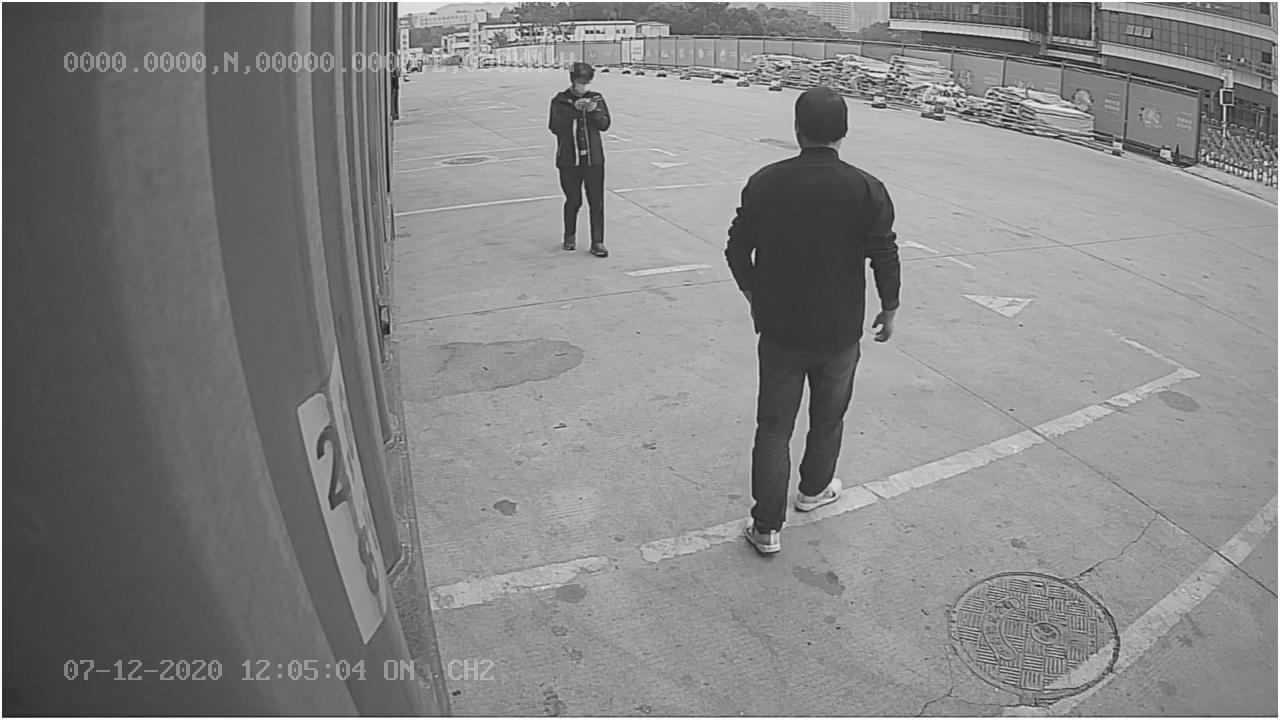person: (725, 79, 904, 559)
